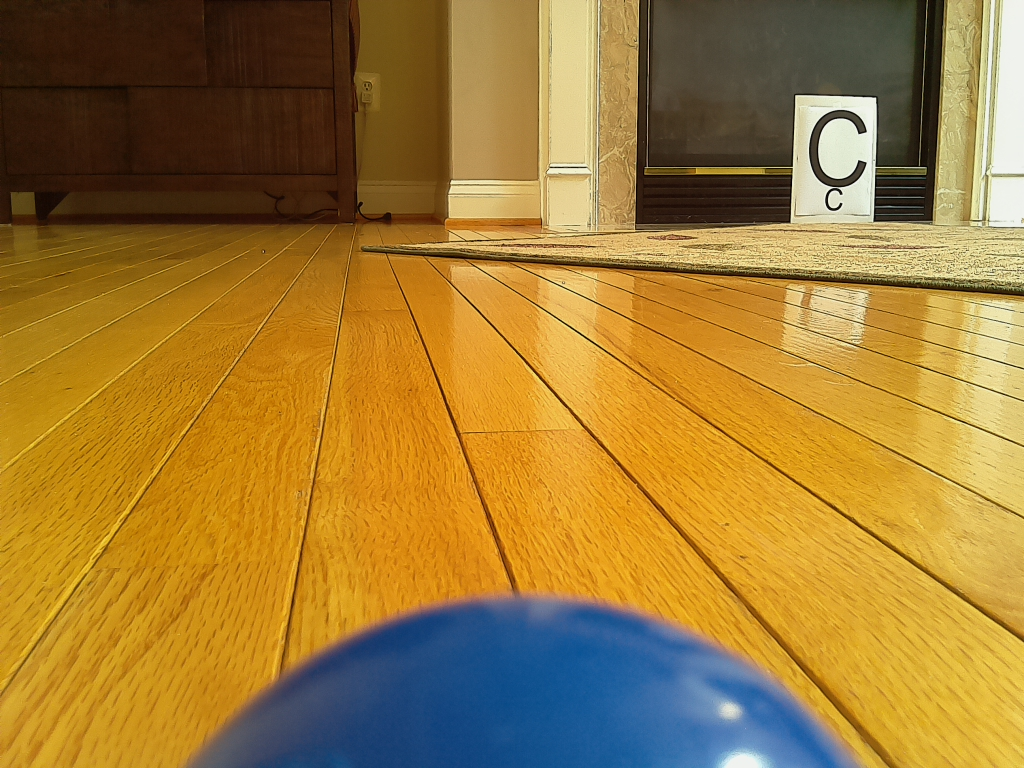letter: (809, 110, 866, 188)
